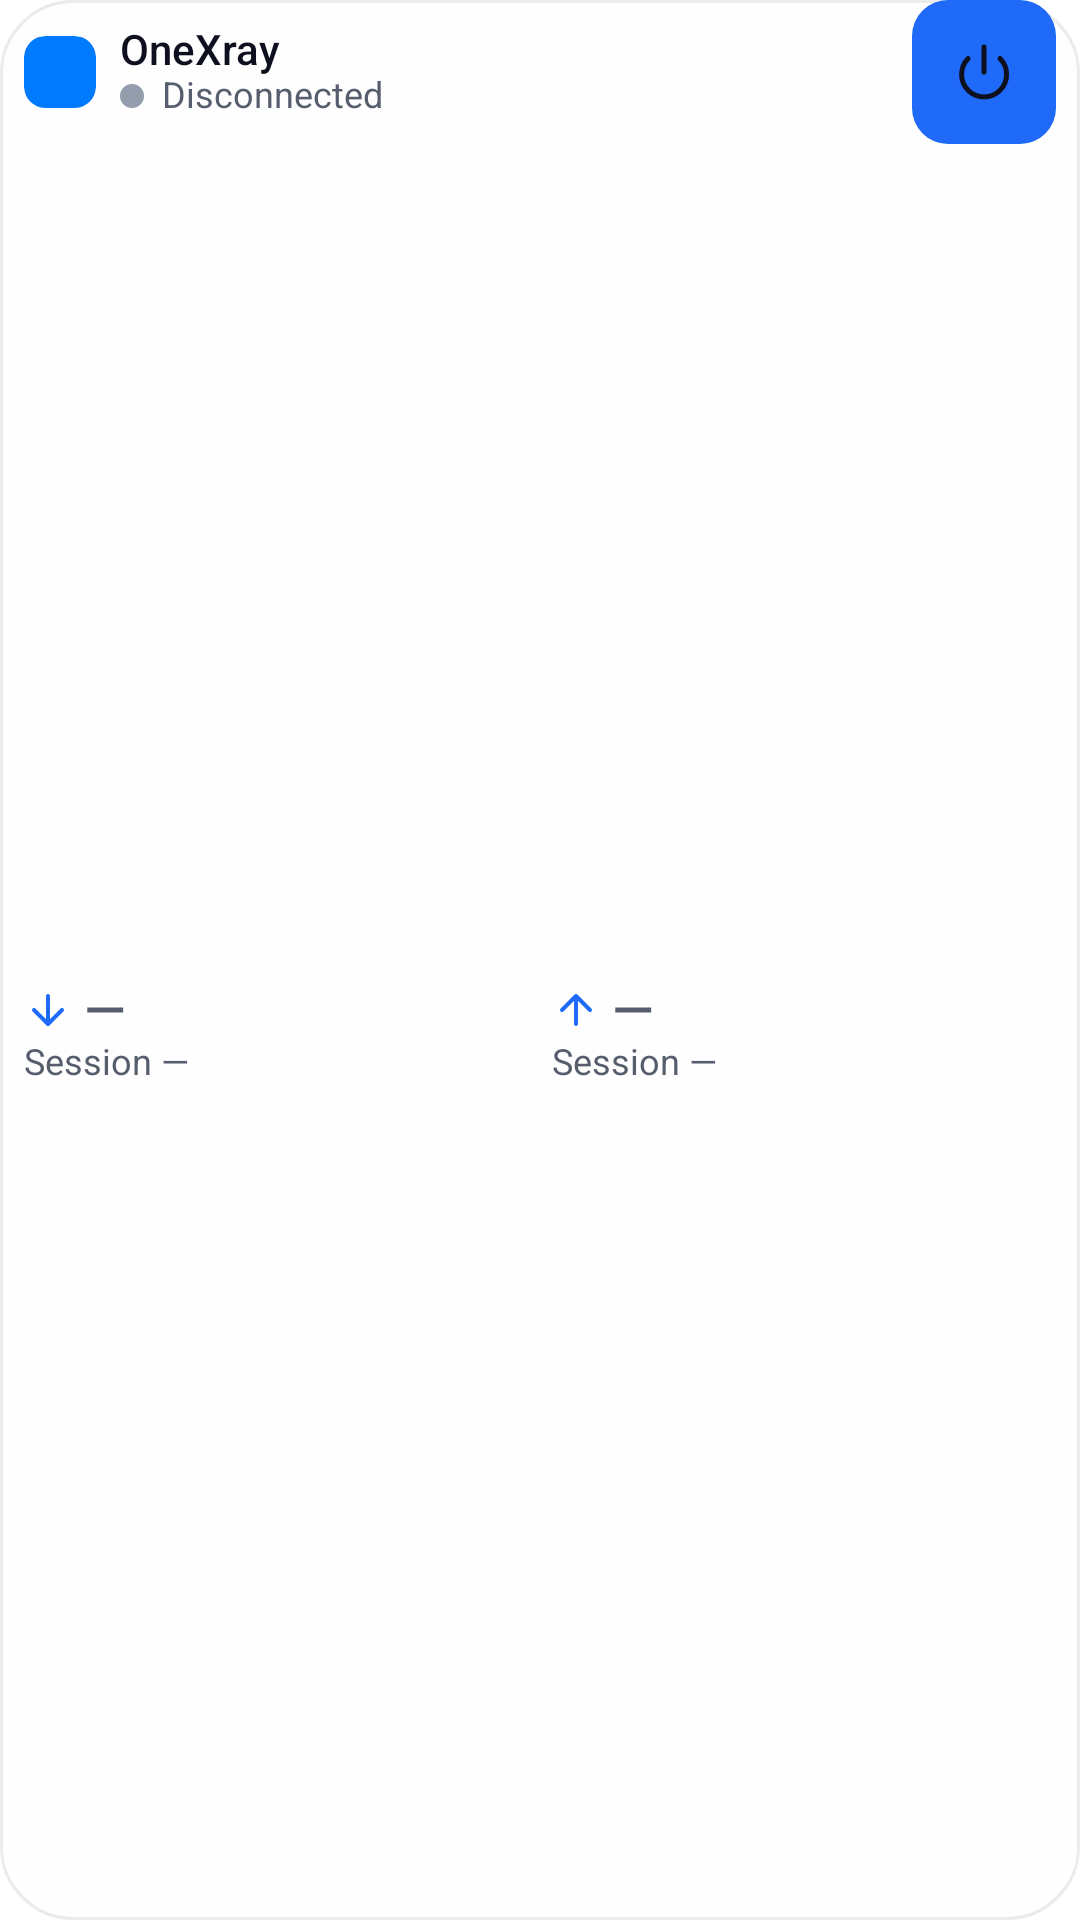

Where to tap for icons on this 1080*1920 app screen, as (x=x, y=y):
traffic power: (x=984, y=72)
